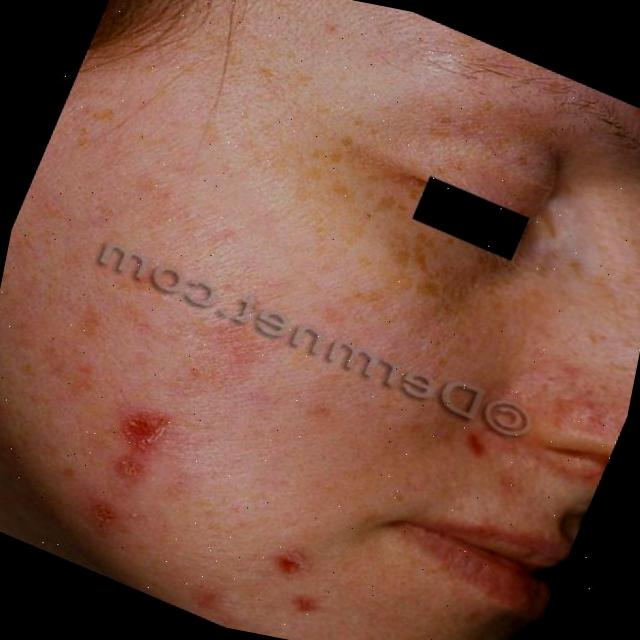acne: (106, 394, 184, 466), (262, 536, 320, 590), (75, 491, 134, 541), (280, 582, 334, 628), (452, 422, 504, 468)
